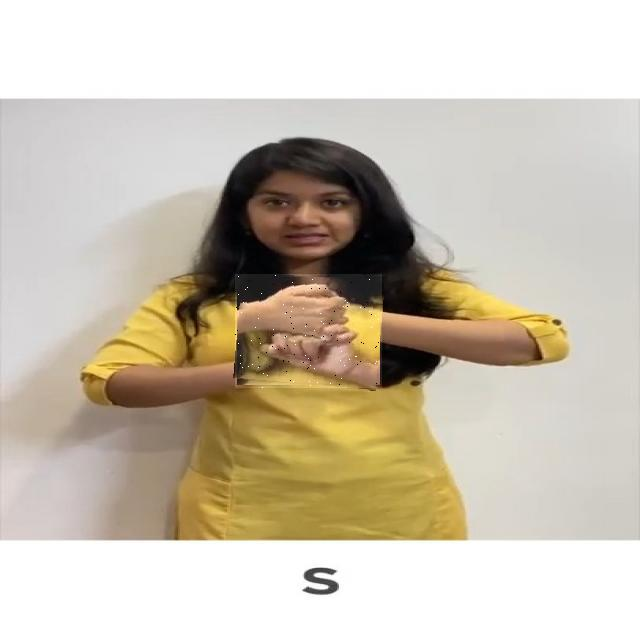S: (235, 274, 382, 388)
